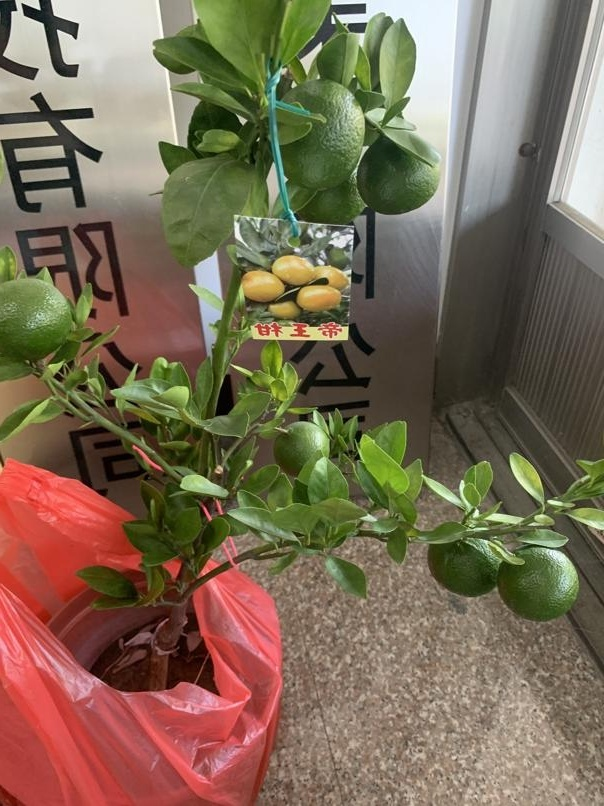Tangerine: (273, 78, 366, 186), (355, 127, 445, 217), (0, 281, 73, 367), (498, 546, 579, 621), (427, 532, 501, 599), (276, 419, 331, 474)
